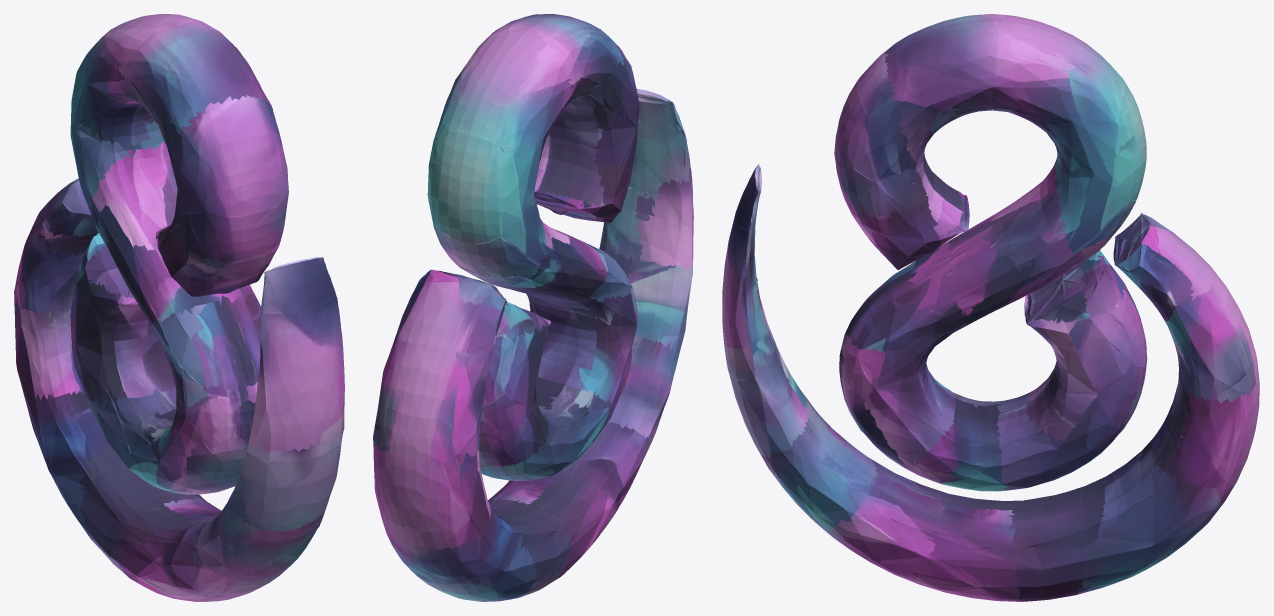
3 views of the same model, side by side, from view 1: azimuth 30°, elevation 25°; view 2: azimuth 150°, elevation 25°; view 3: azimuth 270°, elevation 25° (orthographic). The views are drawn at different scales.
Visible parts, largest first — view 1: tripo_node_d16f0714-e30a-4826-9dd1-62cf7d2eda5a; view 2: tripo_node_d16f0714-e30a-4826-9dd1-62cf7d2eda5a; view 3: tripo_node_d16f0714-e30a-4826-9dd1-62cf7d2eda5a.
Boxes of the visible parts, x1,y1,x2,y2 form: tripo_node_d16f0714-e30a-4826-9dd1-62cf7d2eda5a: (14, 14, 344, 601); tripo_node_d16f0714-e30a-4826-9dd1-62cf7d2eda5a: (373, 14, 693, 601); tripo_node_d16f0714-e30a-4826-9dd1-62cf7d2eda5a: (722, 14, 1259, 601).
Bounding box in the file's own units: 0.1878 × 0.9997 × 0.8499.
1 material, 1 textured.
